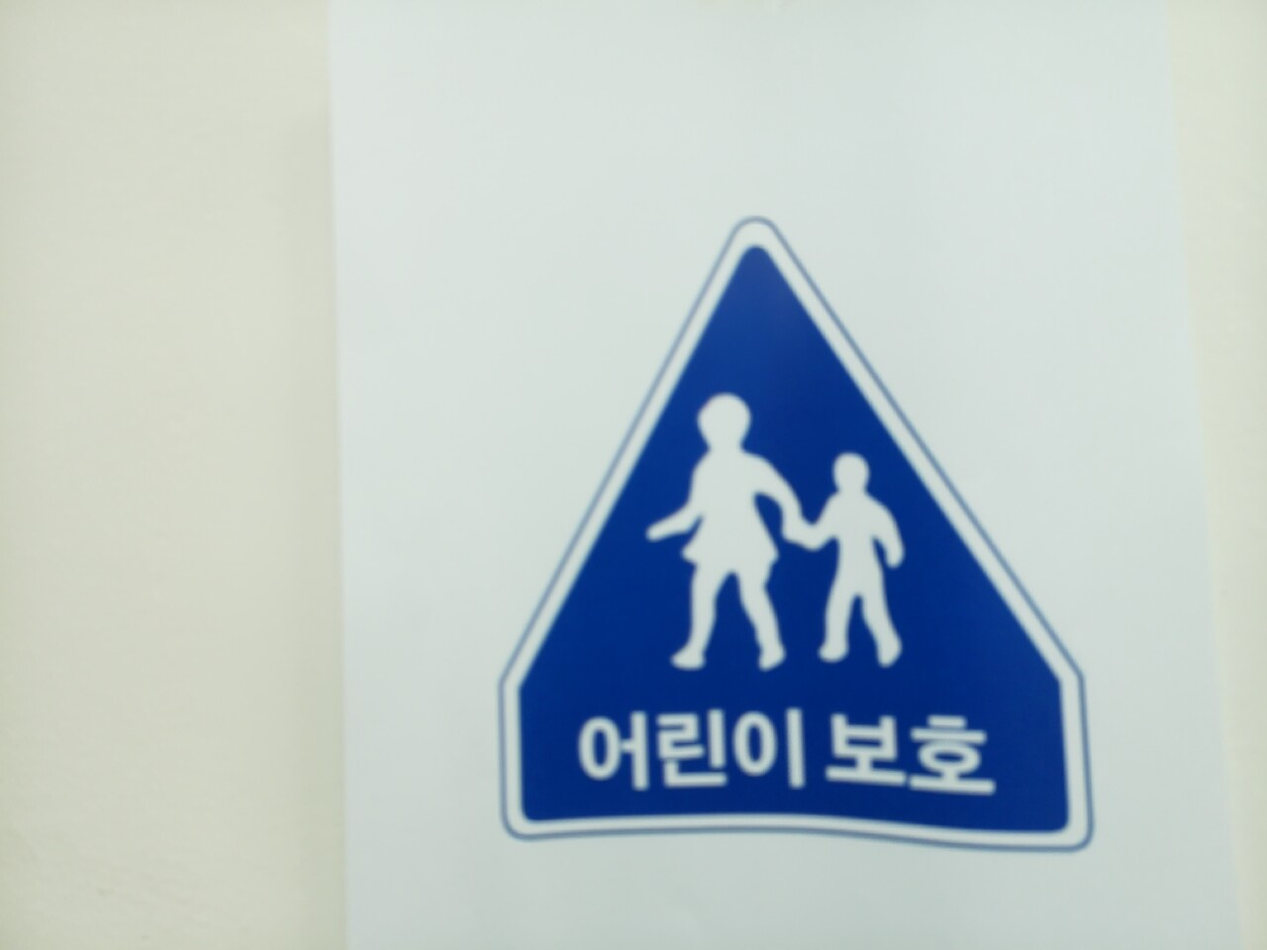school_zone: (503, 231, 1084, 849)
